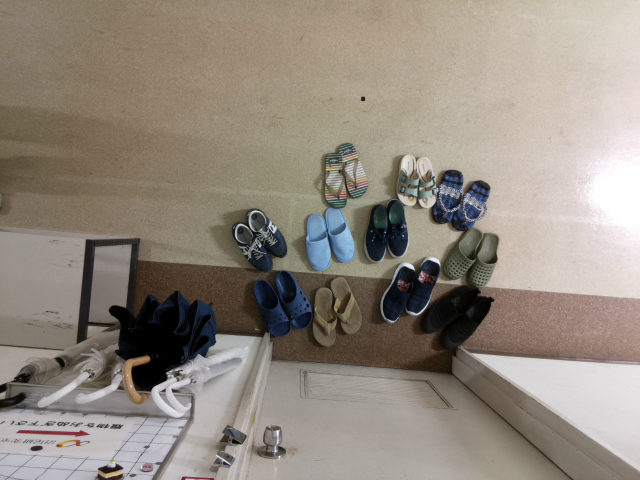Copy of Copy of Copy of Copy of Copy of Copy of Copy of Copy of Copy of Copy of: (438, 290, 497, 351), (420, 279, 481, 336), (400, 254, 443, 320), (375, 259, 418, 325), (438, 225, 484, 286), (449, 176, 494, 234), (430, 161, 464, 228), (465, 230, 502, 290), (378, 194, 411, 261), (409, 146, 442, 213), (361, 200, 394, 266), (389, 146, 422, 212)
Copy of Copy of Copy of Copy of Copy of Copy of Copy of Copy of Copy of shoe: (336, 135, 369, 202)
Copy of Copy of Copy of Copy of Copy of Copy of Copy of Copy of shoe: (315, 144, 349, 211)
Copy of Copy of Copy of Copy of Copy of Copy of Copy of shoe: (323, 202, 356, 269)
Copy of Copy of Copy of Copy of Copy of Copy of shoe: (301, 209, 334, 275)
Copy of Copy of Copy of Copy of Copy of shoe: (330, 271, 364, 340)
Copy of Copy of Copy of Copy of shoe: (306, 282, 340, 351)
Copy of Copy of Copy of shoe: (269, 263, 316, 331)
Copy of Copy of shoe: (247, 274, 293, 342)
Copy of shoe: (240, 203, 289, 262)
shoe: (227, 218, 276, 278)
